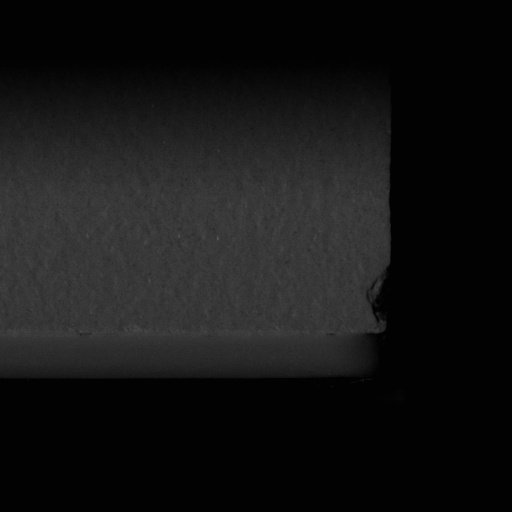bengque: (365, 264, 391, 332)
